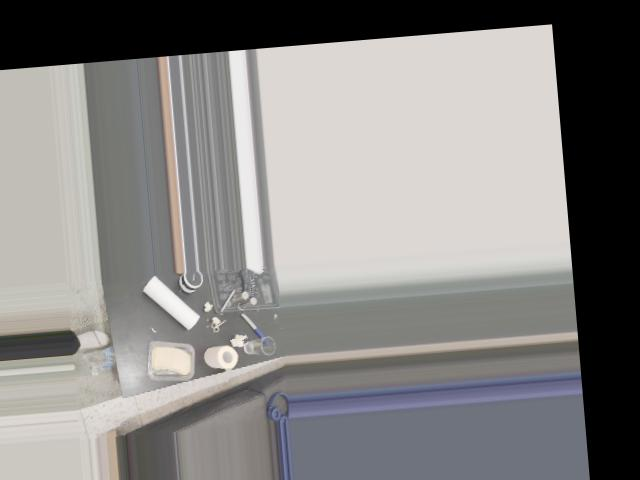cheese: (140, 336, 198, 385)
